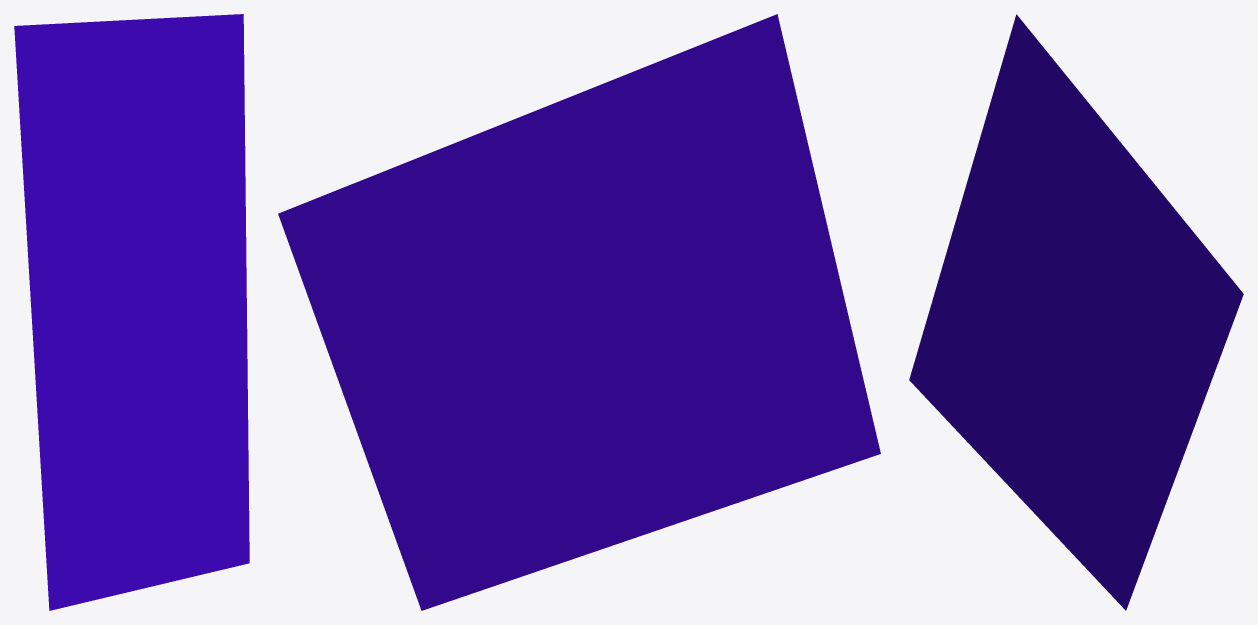
The model's file is deco_kazari2.gltf.
3 renders of one model, left to right at view 1: azimuth 30°, elevation 25°; view 2: azimuth 150°, elevation 25°; view 3: azimuth 270°, elevation 25°, orthographic. The views are drawn at different scales.
Visible parts, largest first — view 1: deco_kazari2; view 2: deco_kazari2; view 3: deco_kazari2.
Part boxes in pixels (bbox=[...]): deco_kazari2: bbox=[14, 14, 249, 610]; deco_kazari2: bbox=[278, 14, 880, 610]; deco_kazari2: bbox=[909, 14, 1243, 610].
Size of the model in its own units: 0.1826 by 0.2749 by 0.1714.
